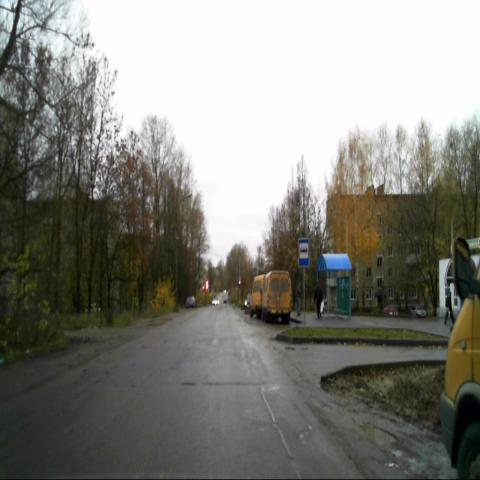5_16: (298, 237, 309, 268)
